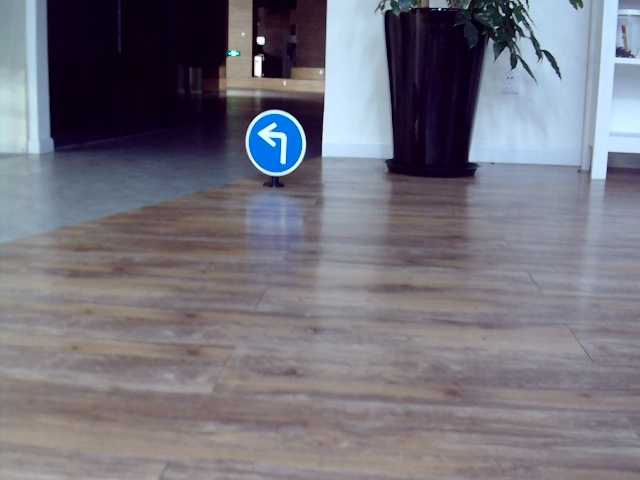turn_left: (257, 118, 291, 162)
